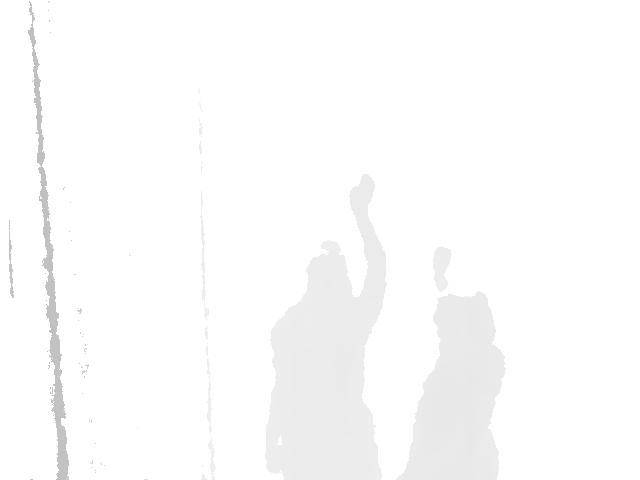hand: (348, 173, 375, 215), (431, 245, 450, 275)
head: (432, 292, 498, 348), (303, 240, 353, 296)
person: (263, 173, 386, 480), (392, 245, 506, 480)
